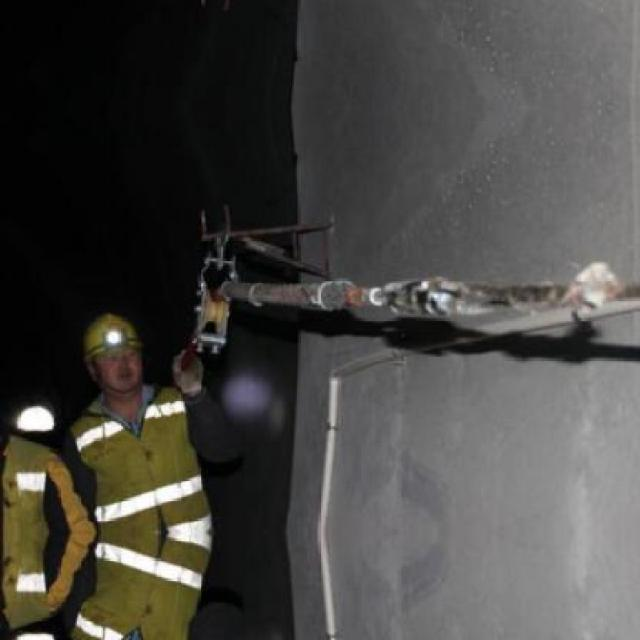Reflective-Jacket: (62, 383, 222, 545)
Safety-Helmet: (70, 305, 156, 372)
